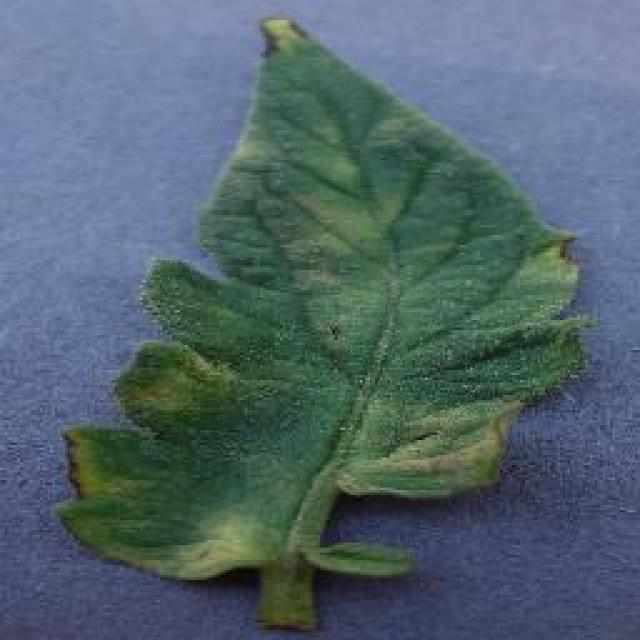Tomato mold leaf: (56, 14, 588, 588)
